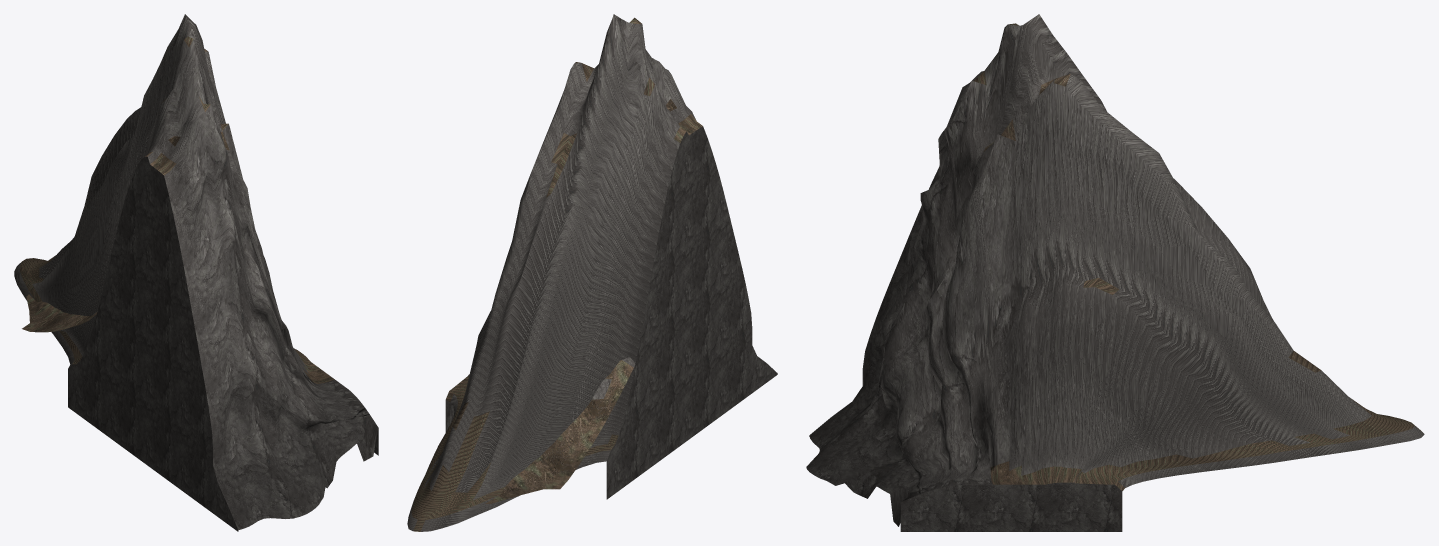
File: seacliff_endcap_right_h8_a_v5_autumn.glb
3 renders of one model, left to right at view 1: azimuth 30°, elevation 25°; view 2: azimuth 150°, elevation 25°; view 3: azimuth 270°, elevation 25°, orthographic. The views are drawn at different scales.
Parts seen in each view (by area): view 1: seacliff_endcap_right_h8_a; view 2: seacliff_endcap_right_h8_a; view 3: seacliff_endcap_right_h8_a.
Part boxes in pixels (<box>): seacliff_endcap_right_h8_a: <box>14,14,378,531</box>; seacliff_endcap_right_h8_a: <box>407,14,777,531</box>; seacliff_endcap_right_h8_a: <box>806,14,1424,531</box>.
Size of the model in its own units: 6 by 13.31 by 16.52.
2 materials, 2 textured.
